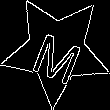M_N: (26, 19, 86, 82)
